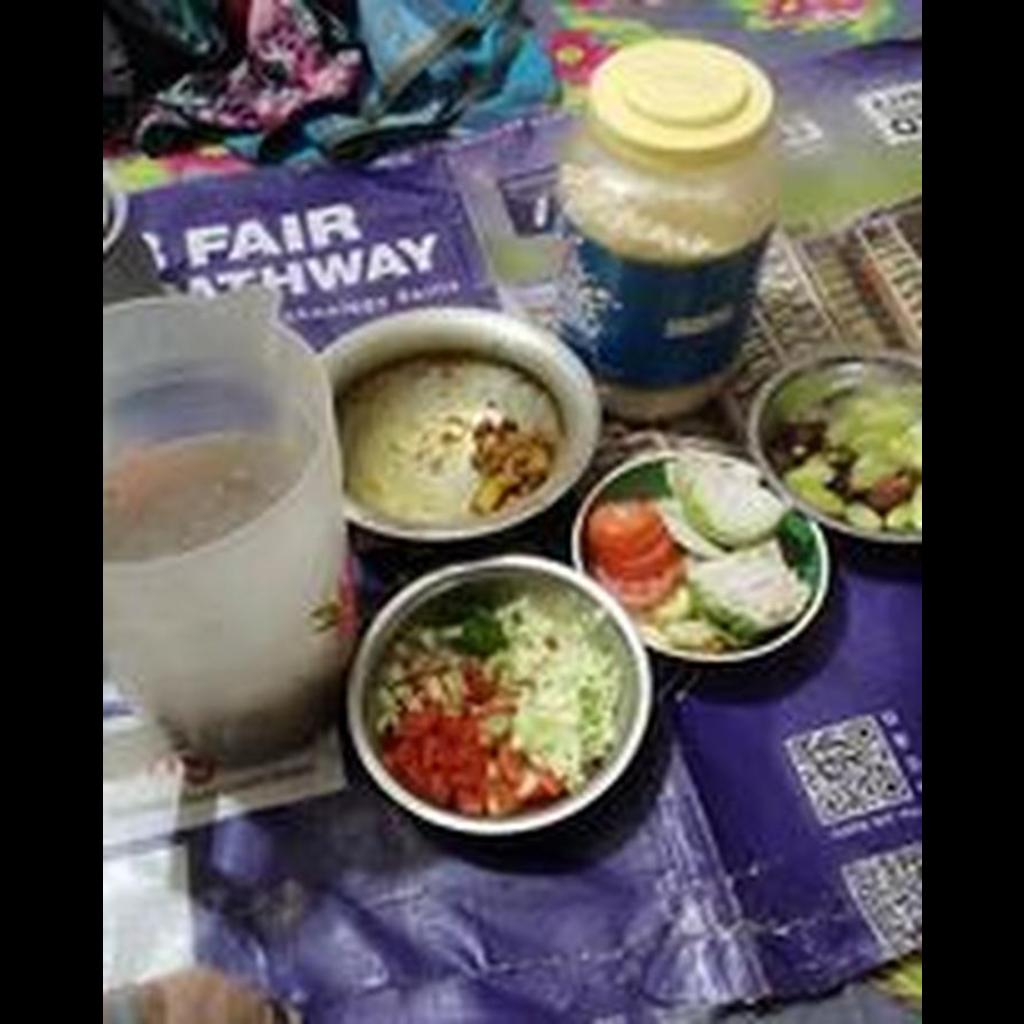chola: (471, 433, 545, 495)
guava: (665, 455, 809, 637)
salad: (373, 606, 613, 801)
